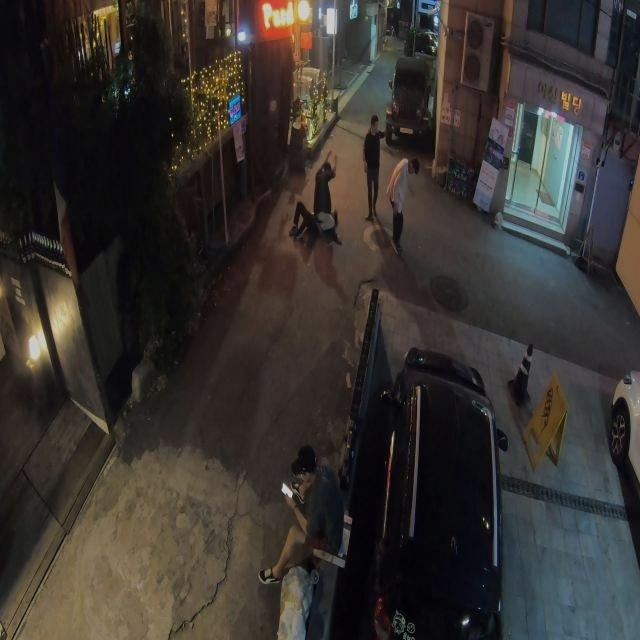fight: (291, 153, 342, 247)
non-fight: (259, 446, 343, 591), (386, 154, 419, 255), (360, 115, 384, 218)
